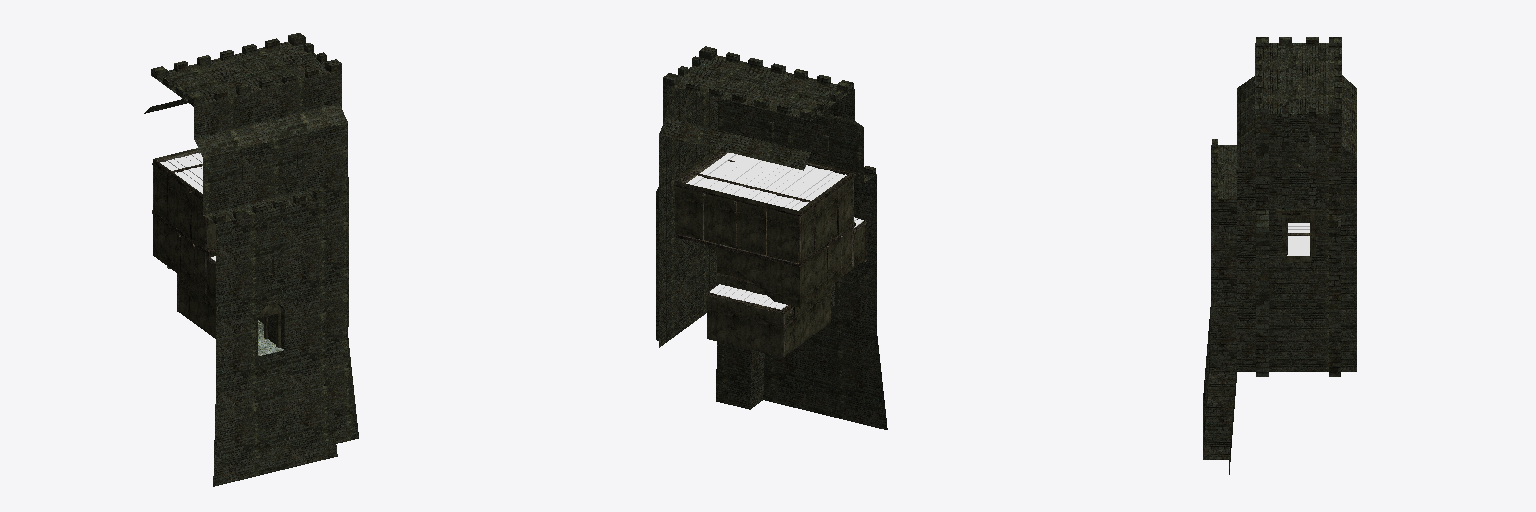
The picture shows the model from 3 angles: view 1: azimuth 30°, elevation 25°; view 2: azimuth 150°, elevation 25°; view 3: azimuth 270°, elevation 25°; orthographic projection.
Visible parts, largest first — view 1: mesh6, mesh3, mesh0, mesh1; view 2: mesh6, mesh3, mesh1, mesh0; view 3: mesh6, mesh7, mesh1.
Boxes of the visible parts, <box> form: mesh6: <box>144,33,358,486</box>; mesh3: <box>153,148,280,347</box>; mesh0: <box>152,150,215,319</box>; mesh1: <box>160,153,215,261</box>; mesh6: <box>656,46,887,429</box>; mesh3: <box>675,150,865,356</box>; mesh1: <box>686,153,863,309</box>; mesh0: <box>674,150,866,356</box>; mesh6: <box>1203,37,1356,474</box>; mesh7: <box>1276,209,1321,256</box>; mesh1: <box>1287,223,1309,255</box>.
Bounding box in the file's own units: 11.76 × 25.27 × 9.64.
Materials: 8 (5 with a texture image).